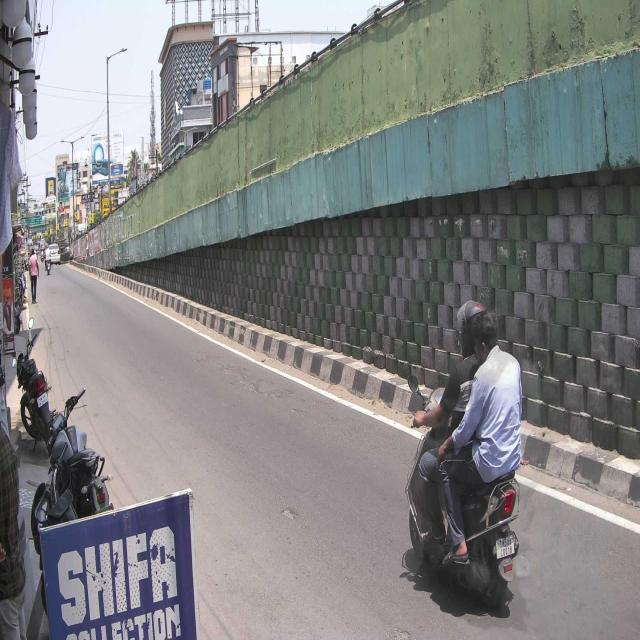double_rider: (406, 299, 524, 619)
